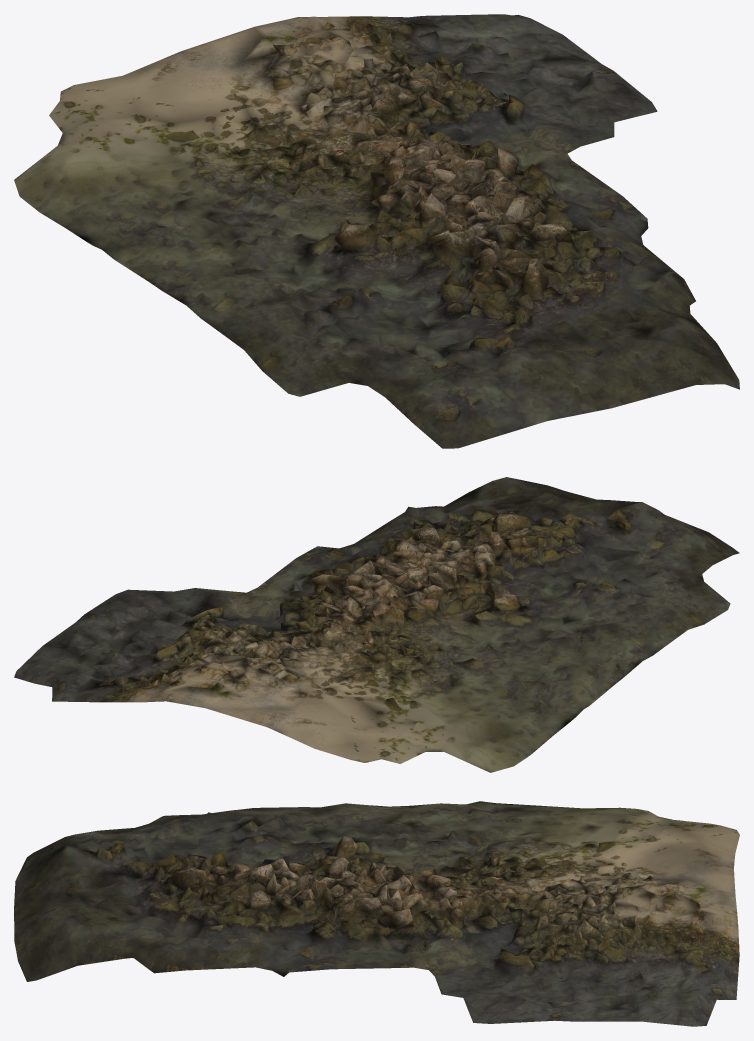
The model's file is shelf_b.glb.
3 renders of one model, top to bottom at view 1: azimuth 30°, elevation 25°; view 2: azimuth 150°, elevation 25°; view 3: azimuth 270°, elevation 25°, orthographic. The views are drawn at different scales.
Visible parts, largest first — view 1: coast_rocks_03; view 2: coast_rocks_03; view 3: coast_rocks_03.
Boxes of the visible parts, x1=… form: coast_rocks_03: x1=14, y1=14, x2=739, y2=448; coast_rocks_03: x1=14, y1=477, x2=739, y2=772; coast_rocks_03: x1=14, y1=801, x2=739, y2=1026.
Bounding box in the file's own units: 21.11 × 3.2 × 28.25.
Materials: 1 (1 with a texture image).
